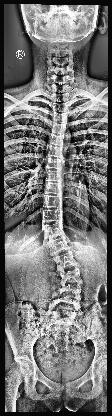Vertebrae: (46, 299, 80, 311), (41, 226, 69, 240), (42, 242, 74, 254), (48, 256, 86, 266), (40, 209, 66, 223), (38, 196, 66, 208), (52, 288, 83, 298), (41, 182, 65, 194), (43, 170, 67, 182), (58, 277, 86, 287), (47, 134, 70, 146), (56, 266, 89, 274), (46, 124, 72, 134), (44, 158, 68, 168), (44, 146, 68, 156), (48, 113, 72, 122), (51, 103, 69, 113), (52, 94, 72, 102)
